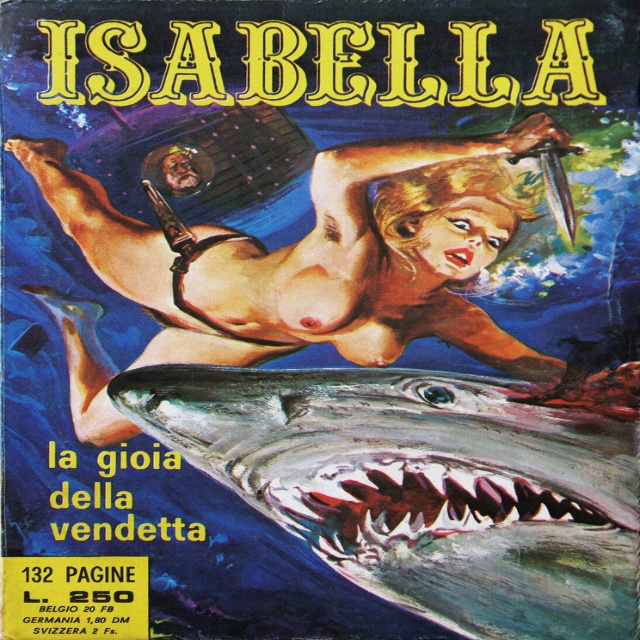Shark: (104, 333, 639, 640)
